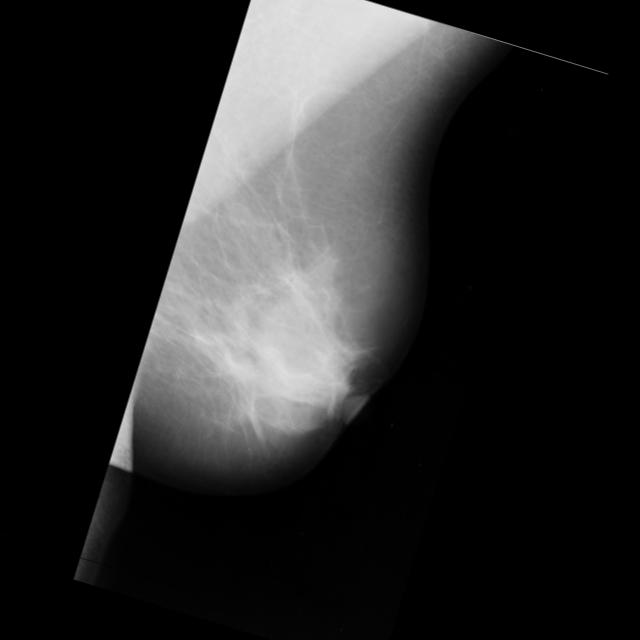SPIC: (302, 7, 640, 387)
